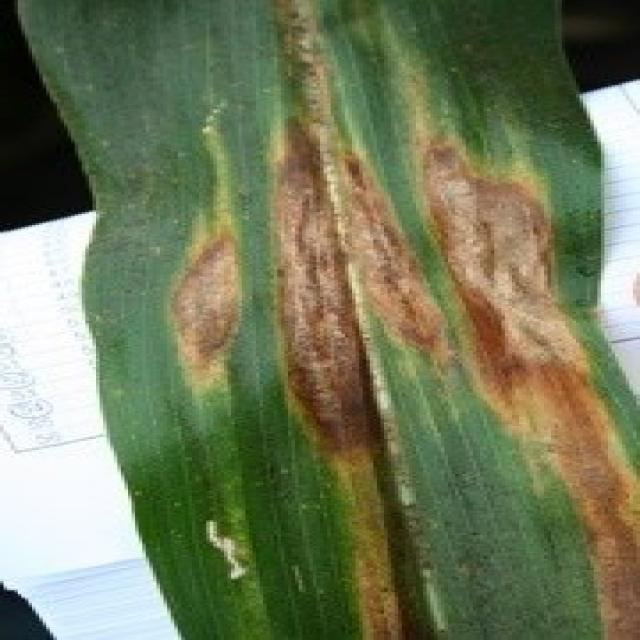Corn_Leaf_Blight: (71, 0, 612, 640)
